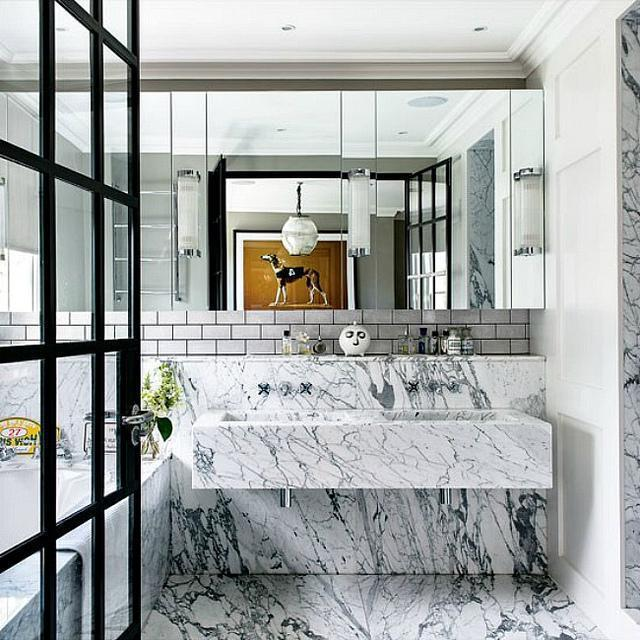Lavamanos: (366, 377, 552, 491), (203, 377, 366, 493)
